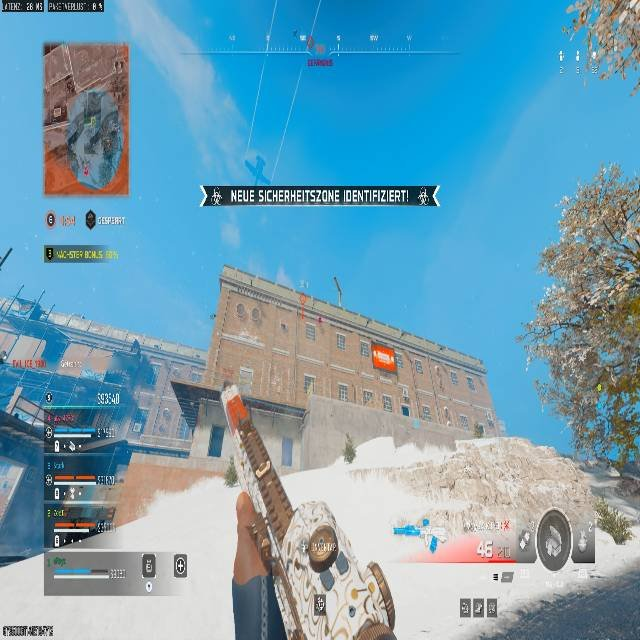head: (345, 433, 351, 439)
player: (343, 434, 357, 464)
